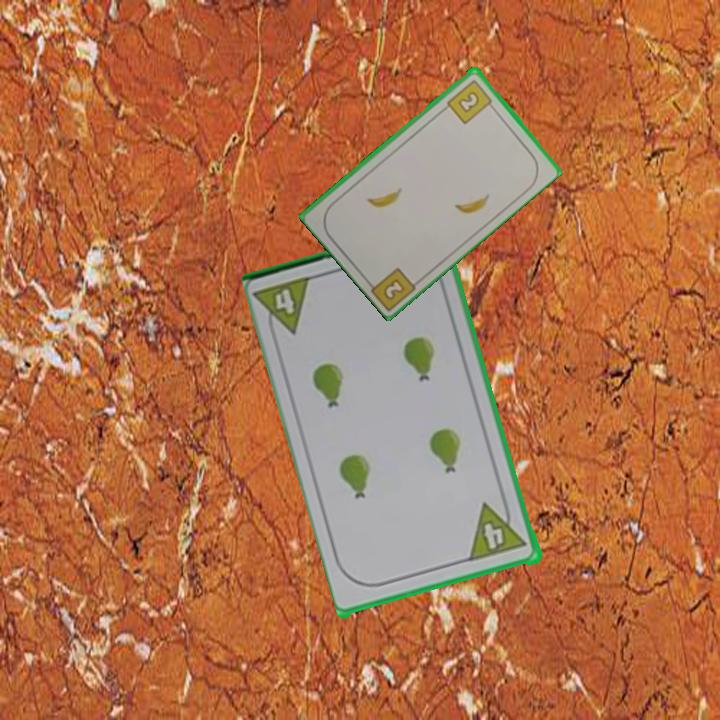2b: (443, 76, 497, 127), (380, 275, 408, 303)
4p: (253, 272, 317, 343), (466, 496, 531, 564)
